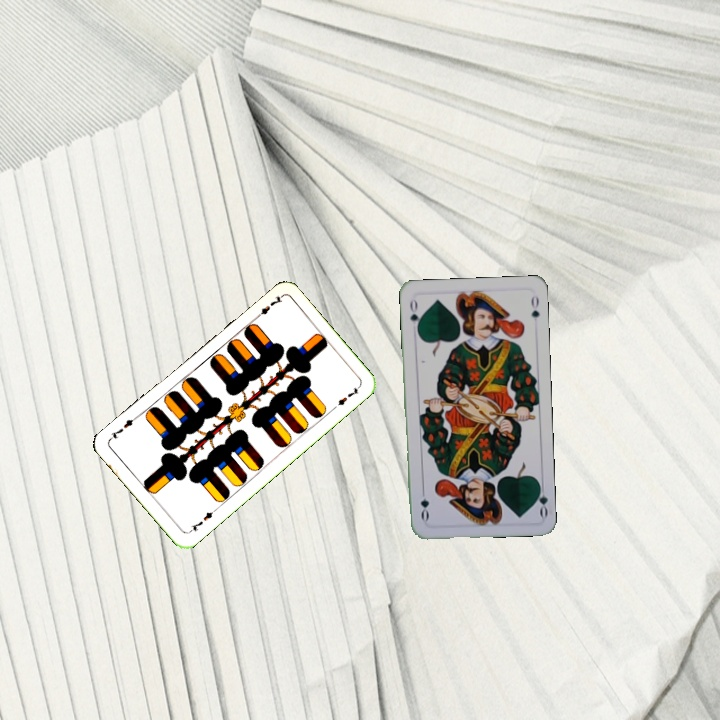E7: (185, 505, 219, 536), (250, 292, 285, 322)
GO: (531, 479, 550, 519), (406, 295, 423, 335)
